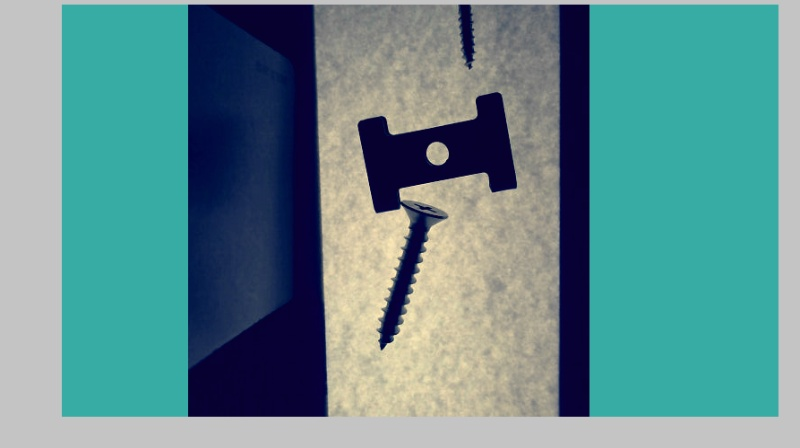O001: (424, 0, 493, 74)
O002: (355, 91, 516, 213)
S001: (376, 198, 448, 348)
